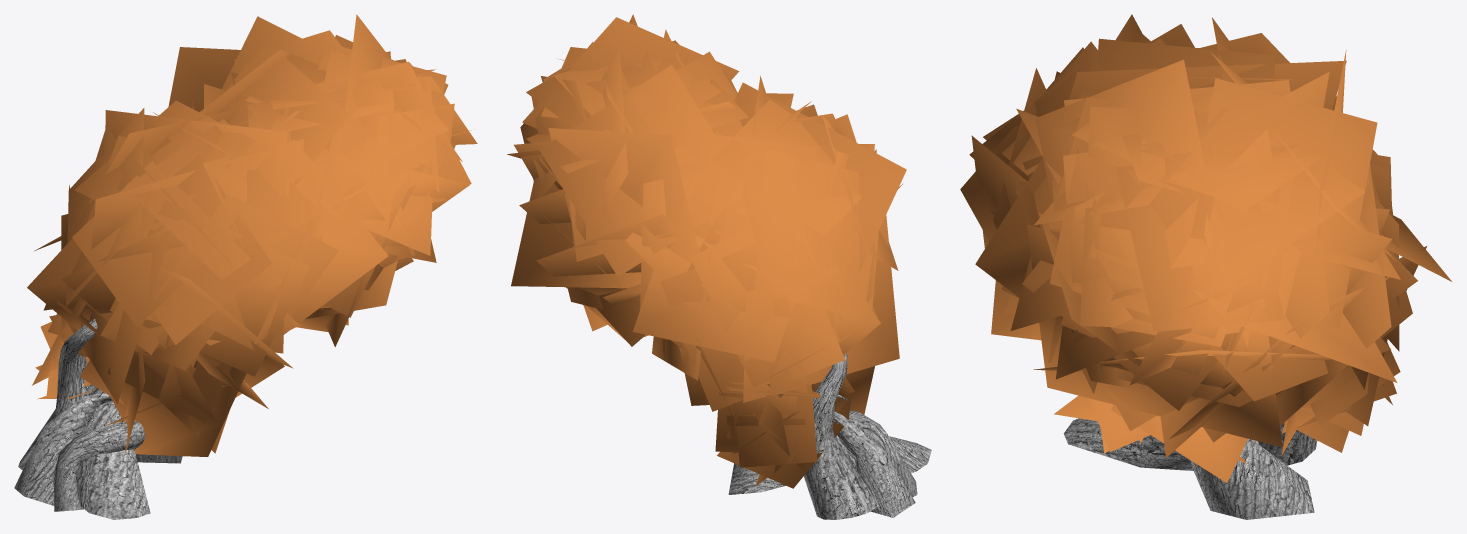
The model's file is tree3.fbx.
3 views of the same model, side by side, from view 1: azimuth 30°, elevation 25°; view 2: azimuth 150°, elevation 25°; view 3: azimuth 270°, elevation 25° (orthographic). The views are drawn at different scales.
Parts seen in each view (by area): view 1: Leaves, Trunk; view 2: Leaves, Trunk; view 3: Leaves, Trunk.
Boxes of the visible parts, x1,y1,x2,y2 form: Leaves: [27, 14, 477, 456]; Trunk: [14, 319, 182, 519]; Leaves: [507, 14, 906, 488]; Trunk: [728, 353, 931, 519]; Leaves: [960, 14, 1451, 482]; Trunk: [1063, 418, 1317, 519].
Size of the model in its own units: 39.22 by 37.2 by 28.86.
